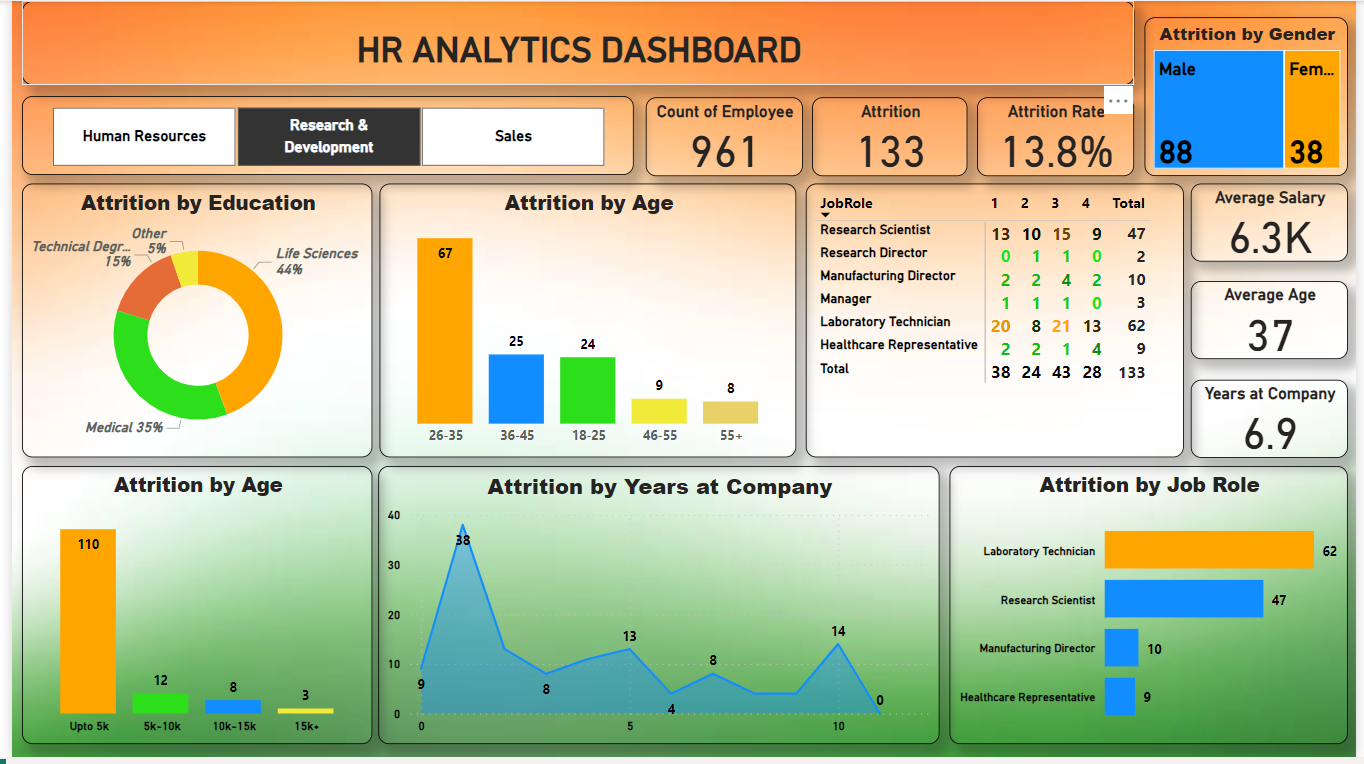

The dashboard page shown, as its layout file describes it:
{"tool":"powerbi","page":{"name":"Page 1","canvas":[1280,720],"ordinal":0},"visuals":[{"type":"card","title":"Count of Employee","fields":{"Values":["CountNonNull(HR_Analytics.EmpID)"]},"box":[603.2,91.1,149.8,75.6],"z":0},{"type":"card","title":"Attrition","fields":{"Values":["Sum(HR_Analytics.AttritionCount)"]},"box":[761.2,91.1,148.4,75.6],"z":1000},{"type":"card","title":"Attrition Rate","fields":{"Values":["HR_Analytics.AttritionRate"]},"box":[919.2,91.1,149.8,75.6],"z":2000},{"type":"card","title":"Average Age","fields":{"Values":["Avg(HR_Analytics.Age)"]},"box":[1122.5,266.9,149.8,74.2],"z":3000},{"type":"card","title":"Average Salary","fields":{"Values":["Avg(HR_Analytics.MonthlyIncome)"]},"box":[1122.5,173.5,149.8,74.2],"z":4000},{"type":"card","title":"Years at Company","fields":{"Values":["Avg(HR_Analytics.YearsAtCompany)"]},"box":[1122.5,360.4,149.8,74.2],"z":5000},{"type":"donutChart","title":"Attrition by Education","fields":{"Category":["HR_Analytics.EducationField"],"Y":["Sum(HR_Analytics.AttritionCount)"]},"box":[10,173.5,333.9,261.1],"z":6000},{"type":"columnChart","title":"Attrition by Age","fields":{"Category":["HR_Analytics.AgeGroup"],"Y":["Sum(HR_Analytics.AttritionCount)"]},"box":[349.4,173.5,397.1,261.1],"z":7000},{"type":"pivotTable","fields":{"Rows":["HR_Analytics.JobRole"],"Columns":["HR_Analytics.JobSatisfaction"],"Values":["Sum(HR_Analytics.AttritionCount)"]},"box":[756.1,173.5,360,261.1],"z":8000},{"type":"columnChart","title":"Attrition by Age","fields":{"Category":["HR_Analytics.SalarySlab"],"Y":["Sum(HR_Analytics.AttritionCount)"]},"box":[9.6,442.8,333.9,265.2],"z":9000},{"type":"clusteredBarChart","title":"Attrition by Job Role","fields":{"Category":["HR_Analytics.JobRole"],"Y":["Sum(HR_Analytics.AttritionCount)"]},"box":[893.1,442.8,379.2,265.2],"z":10000},{"type":"areaChart","title":"Attrition by Years at Company","fields":{"Y":["Sum(HR_Analytics.AttritionCount)"],"Category":["HR_Analytics.YearsAtCompany"]},"box":[349,442.8,534.5,265.2],"z":11000},{"type":"treemap","title":"Attrition by Gender","fields":{"Group":["HR_Analytics.Gender"],"Values":["Sum(HR_Analytics.AttritionCount)"]},"box":[1078.6,15.1,193.7,151.1],"z":12000},{"type":"slicer","fields":{"Values":["HR_Analytics.Department"]},"box":[9.6,90.7,582.6,75.6],"z":13000},{"type":"textbox","box":[9.6,0,1059.3,79.7],"z":14000}]}

Visuals, with their boxes in screenshot pixels (x1, y1, x2, y2), scaled from the page's 1280x720 canvas onto the 1364x764 screenshot:
"Count of Employee" card: 643,97,802,177
"Attrition" card: 811,97,969,177
"Attrition Rate" card: 980,97,1139,177
"Average Age" card: 1196,283,1356,362
"Average Salary" card: 1196,184,1356,263
"Years at Company" card: 1196,382,1356,461
"Attrition by Education" donutChart: 11,184,366,461
"Attrition by Age" columnChart: 372,184,795,461
pivotTable - HR_Analytics.JobRole x HR_Analytics.JobSatisfaction: 806,184,1189,461
"Attrition by Age" columnChart: 10,470,366,751
"Attrition by Job Role" clusteredBarChart: 952,470,1356,751
"Attrition by Years at Company" areaChart: 372,470,941,751
"Attrition by Gender" treemap: 1149,16,1356,176
slicer - HR_Analytics.Department: 10,96,631,176
textbox: 10,0,1139,85
